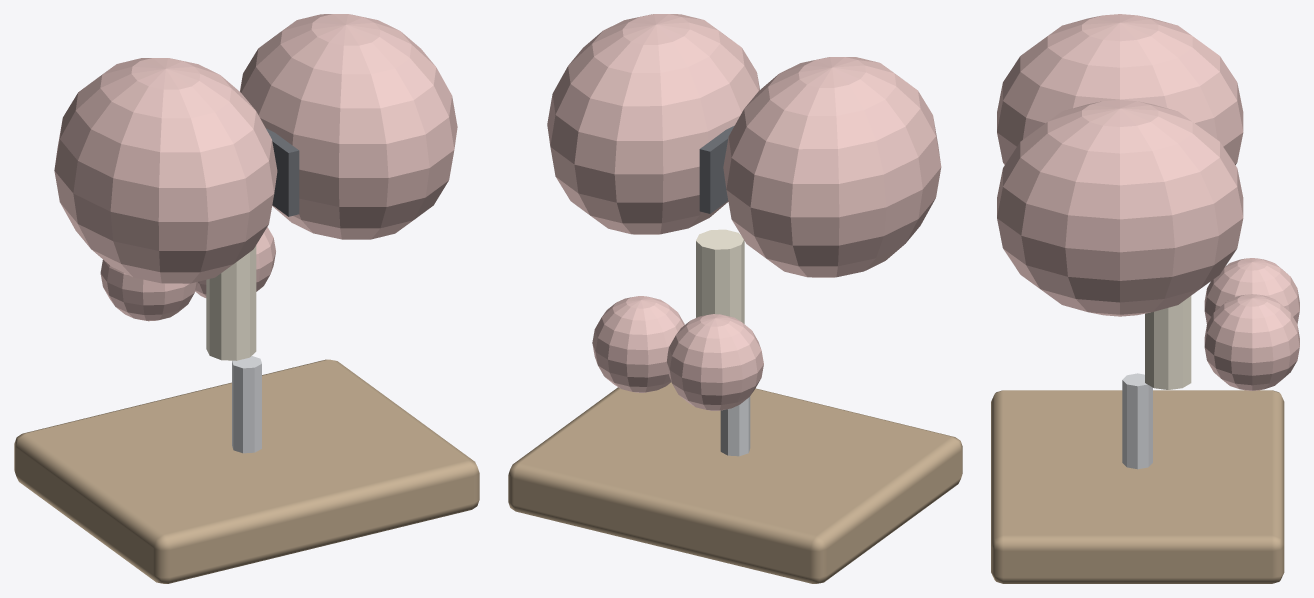
The model's file is brain.glb.
The picture shows the model from 3 angles, left to right: view 1: azimuth 30°, elevation 25°; view 2: azimuth 150°, elevation 25°; view 3: azimuth 270°, elevation 25°; orthographic projection. The views are drawn at different scales.
Parts seen in each view (by area): view 1: brain-model; view 2: brain-model; view 3: brain-model.
Part boxes in pixels (x1,y1,x2,y2): brain-model: (14, 14, 479, 583); brain-model: (508, 14, 962, 583); brain-model: (991, 14, 1299, 583).
Size of the model in its own units: 0.2698 by 0.322 by 0.2022.
